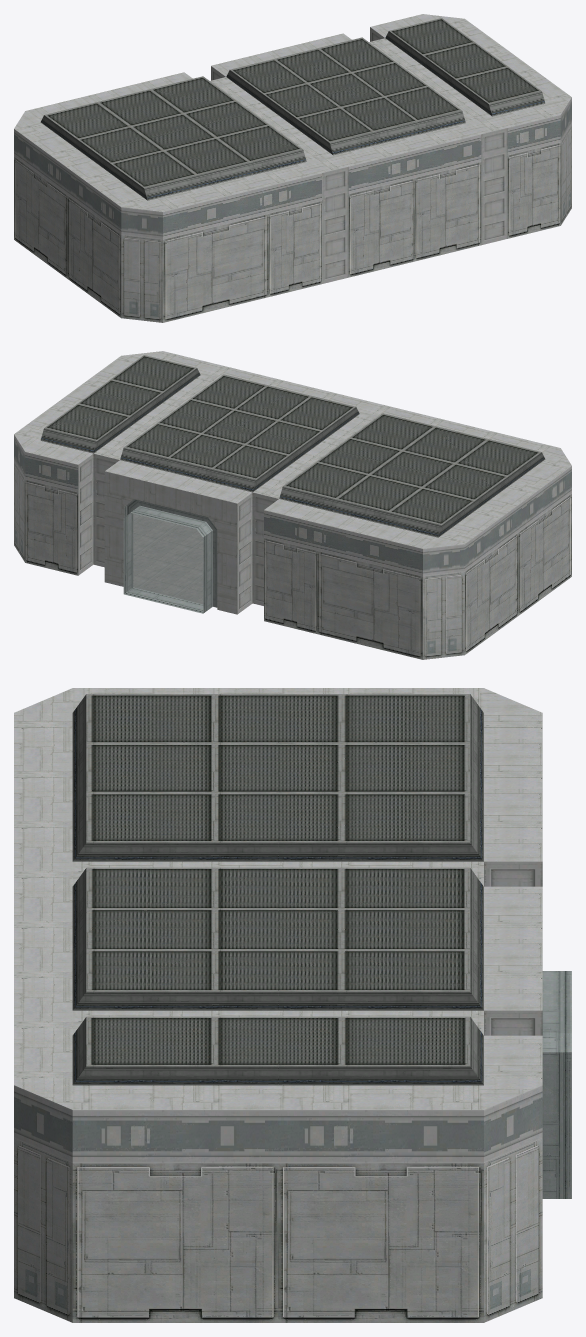
File: mun_all_military_base_police_station_impl_s01_r11_storage2_mesh_r11.fbx
3 renders of one model, top to bottom at view 1: azimuth 30°, elevation 25°; view 2: azimuth 150°, elevation 25°; view 3: azimuth 270°, elevation 25°, orthographic. The views are drawn at different scales.
Parts seen in each view (by area): view 1: mesh_node; view 2: mesh_node; view 3: mesh_node.
Part boxes in pixels (x1,y1,x2,y2): mesh_node: (14, 14, 571, 322); mesh_node: (14, 351, 571, 659); mesh_node: (14, 688, 571, 1322).
Bounding box in the file's own units: 17 × 4.36 × 9.5.
